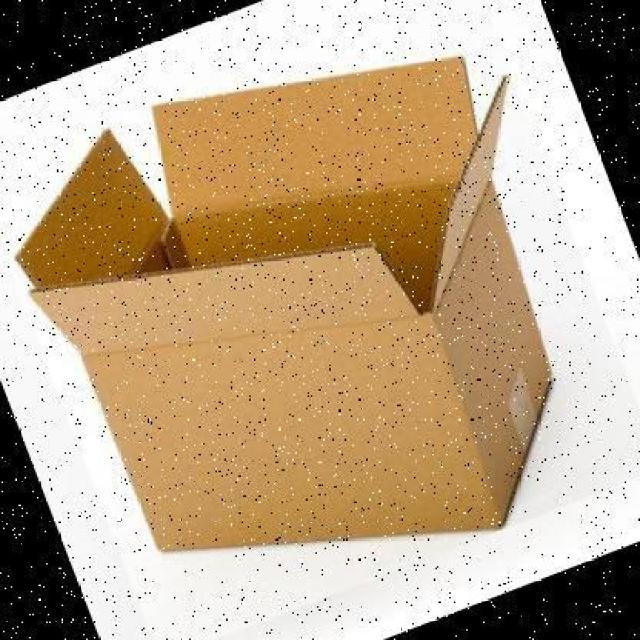box: (14, 55, 555, 555)
opened: (15, 57, 512, 354)
